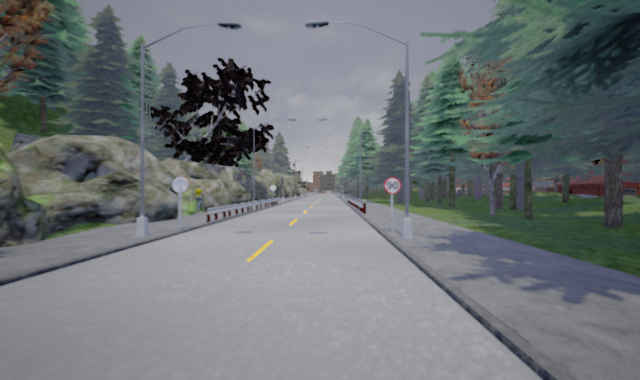pedestrian: (192, 183, 206, 211)
